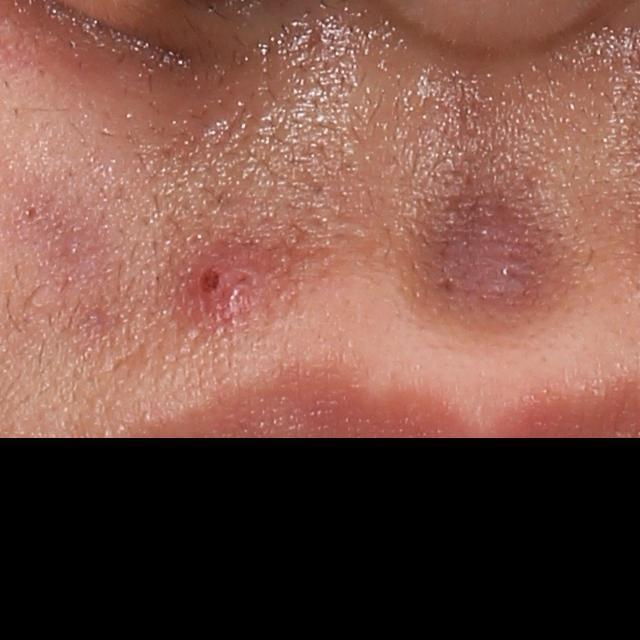comedo: (16, 202, 46, 229)
papule: (174, 238, 257, 333)
